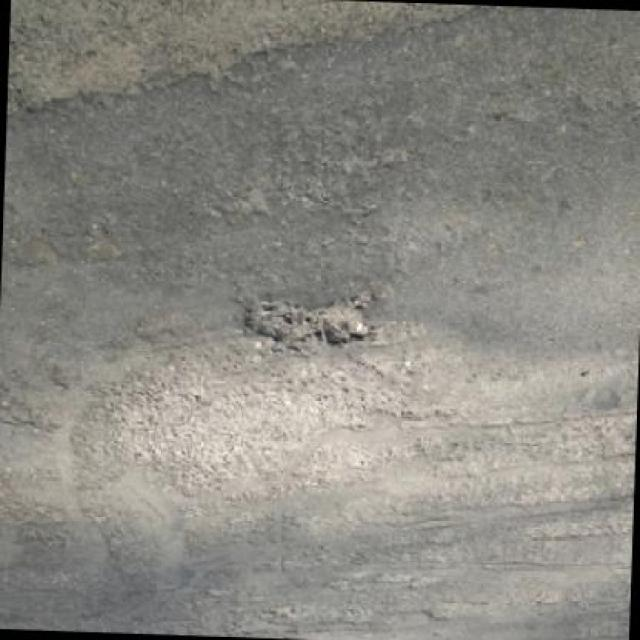pothole1: (8, 0, 509, 134), (244, 292, 381, 353)
